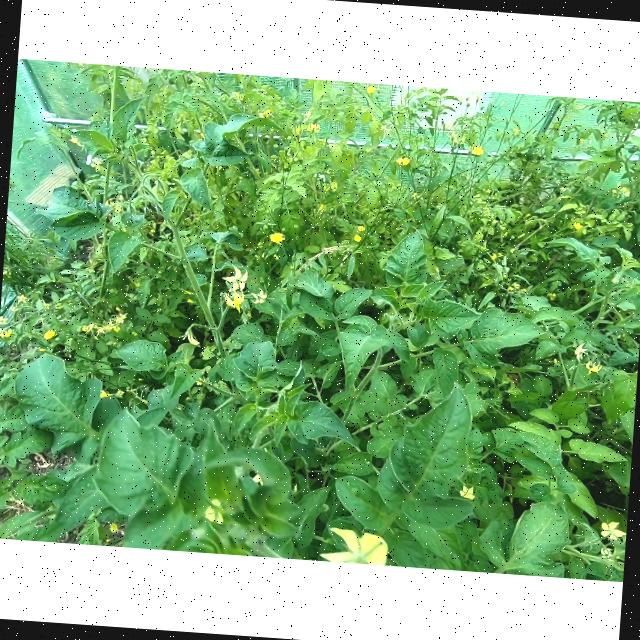Flowers: (320, 525, 390, 565), (222, 264, 250, 292), (204, 497, 229, 525), (222, 291, 250, 313), (182, 322, 202, 346), (446, 128, 466, 146), (267, 230, 286, 246), (574, 341, 587, 363), (252, 288, 268, 304), (102, 320, 122, 332), (584, 362, 602, 374), (92, 325, 109, 336), (307, 122, 320, 134), (43, 328, 56, 340), (68, 136, 82, 147), (0, 327, 14, 338), (395, 156, 410, 166), (364, 85, 378, 95), (108, 522, 119, 534), (472, 145, 484, 156), (262, 108, 274, 119), (104, 196, 114, 208), (16, 293, 28, 303), (84, 321, 96, 331), (98, 389, 111, 398), (114, 203, 124, 214), (0, 315, 9, 326), (572, 222, 584, 230), (352, 233, 362, 242), (114, 315, 125, 323), (331, 182, 338, 192), (11, 304, 19, 312), (118, 312, 128, 318), (322, 183, 329, 190), (118, 194, 124, 202), (43, 302, 50, 308), (357, 226, 364, 231), (296, 126, 300, 134), (318, 203, 322, 210)
